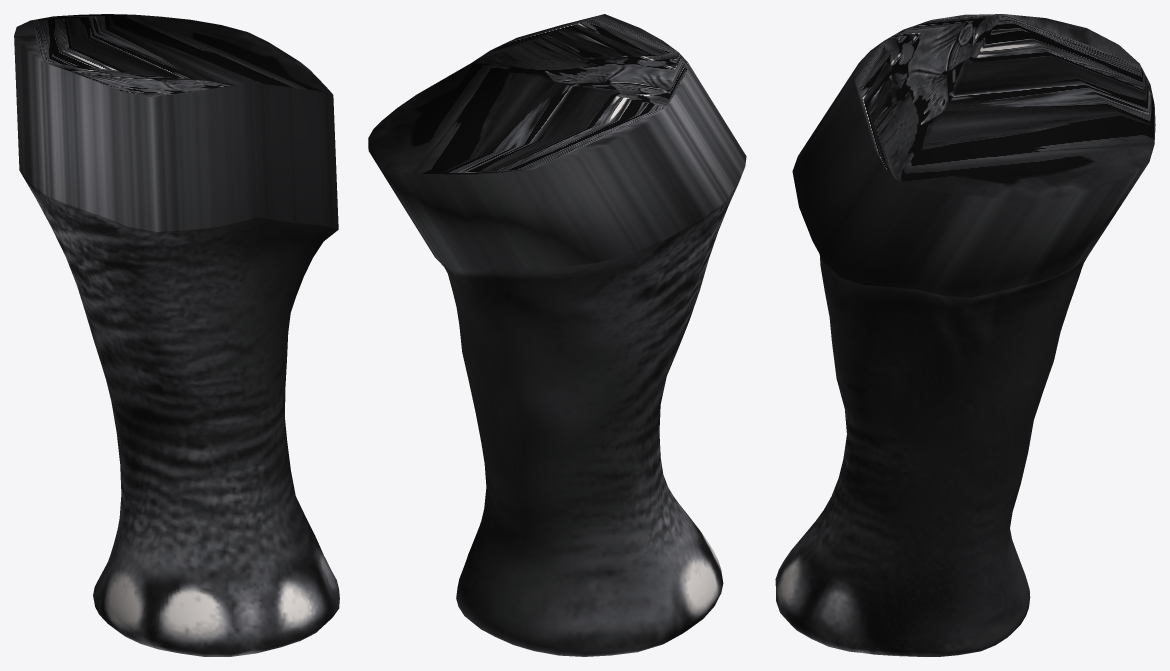
File: F_LeftLegRhino.obj
3 renders of one model, left to right at view 1: azimuth 30°, elevation 25°; view 2: azimuth 150°, elevation 25°; view 3: azimuth 270°, elevation 25°, orthographic. The views are drawn at different scales.
Parts seen in each view (by area): view 1: Rhino_Quad.002; view 2: Rhino_Quad.002; view 3: Rhino_Quad.002.
Part boxes in pixels (x1=…): Rhino_Quad.002: x1=14, y1=14, x2=339, y2=656; Rhino_Quad.002: x1=368, y1=14, x2=746, y2=656; Rhino_Quad.002: x1=775, y1=14, x2=1155, y2=656.
Size of the model in its own units: 0.4592 by 0.8518 by 0.5345.
1 material, 1 textured.
